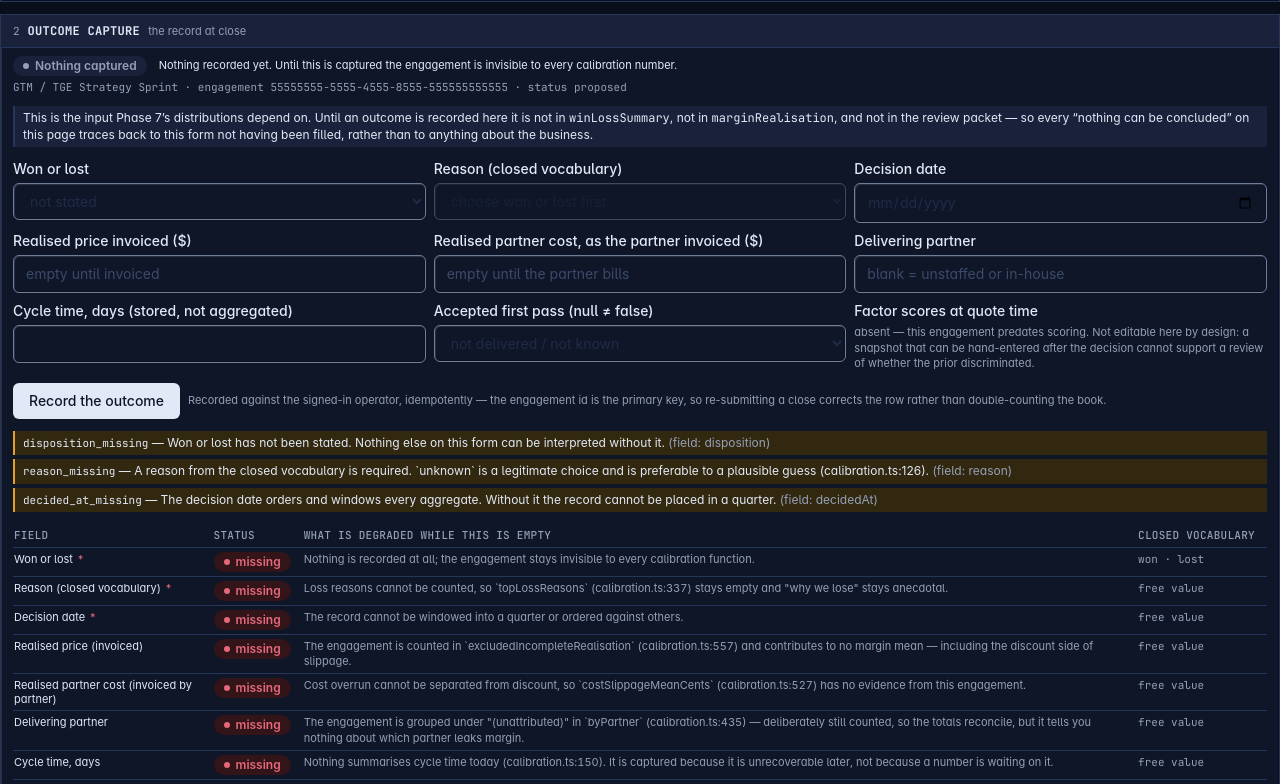
Scenario: outcome capture › renders the engine’s blockers on a refusal, and states that nothing was written
(page scrolled)
Click the button "Record the outcome" at (96, 401), box [13,383,180,419]
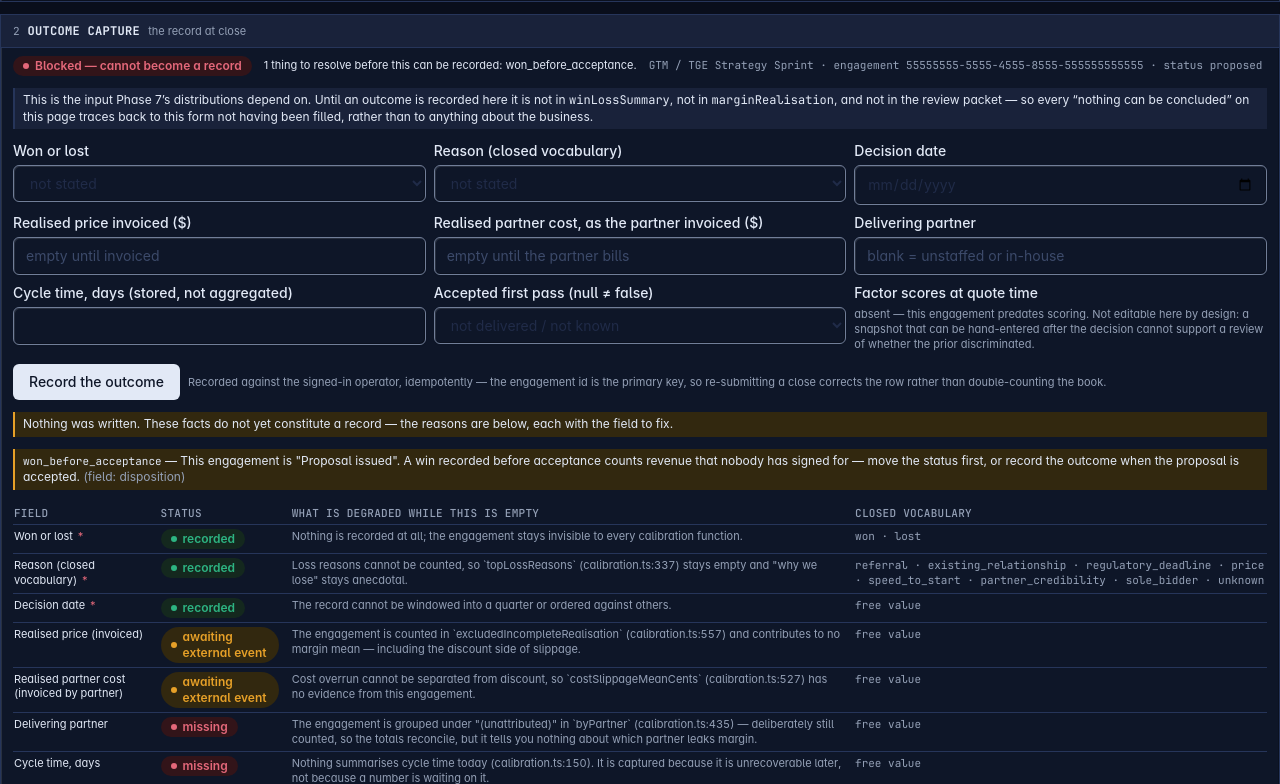
Check: the text "won_before_acceptance" is shown, box [264,58,637,72]
Check: the text "Nothing was written" is shown, box [23,416,673,432]
